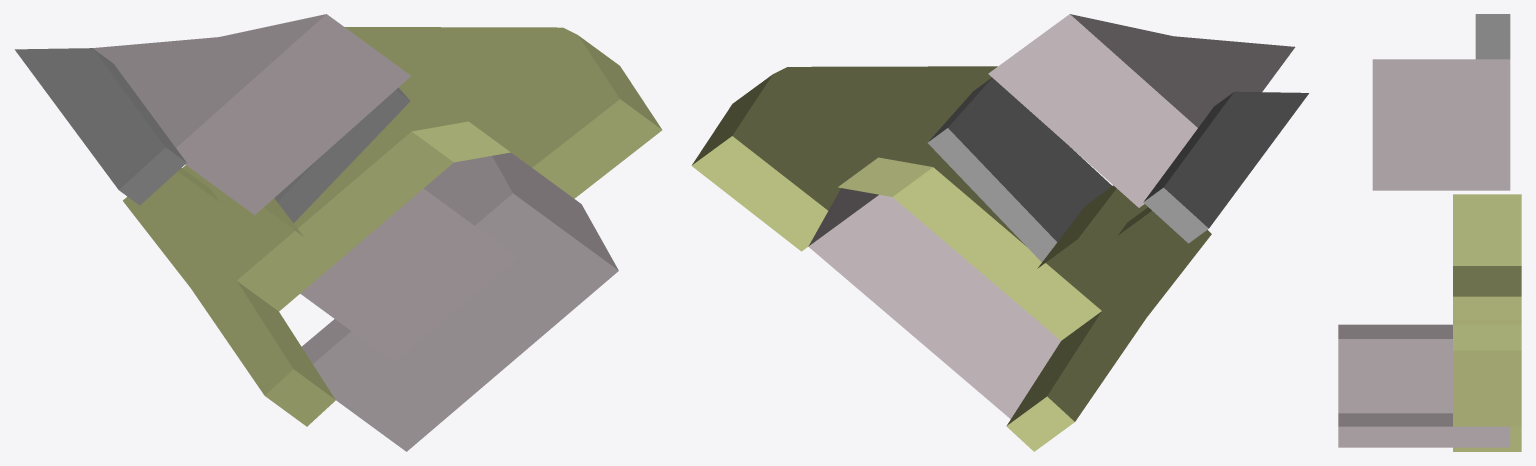
3 views of the same model, side by side, from view 1: azimuth 30°, elevation 25°; view 2: azimuth 150°, elevation 25°; view 3: azimuth 270°, elevation 25° (orthographic). The views are drawn at different scales.
Visible parts, largest first — view 1: 0_3_0_2_1_1_2_0; view 2: 0_3_0_2_1_1_2_0; view 3: 0_3_0_2_1_1_2_0.
Boxes of the visible parts, box(x1,y1,x2,y2) form: 0_3_0_2_1_1_2_0: box(14, 14, 662, 451); 0_3_0_2_1_1_2_0: box(691, 14, 1308, 451); 0_3_0_2_1_1_2_0: box(1338, 14, 1521, 451).
Size of the model in its own units: 50.1 by 32.38 by 16.
